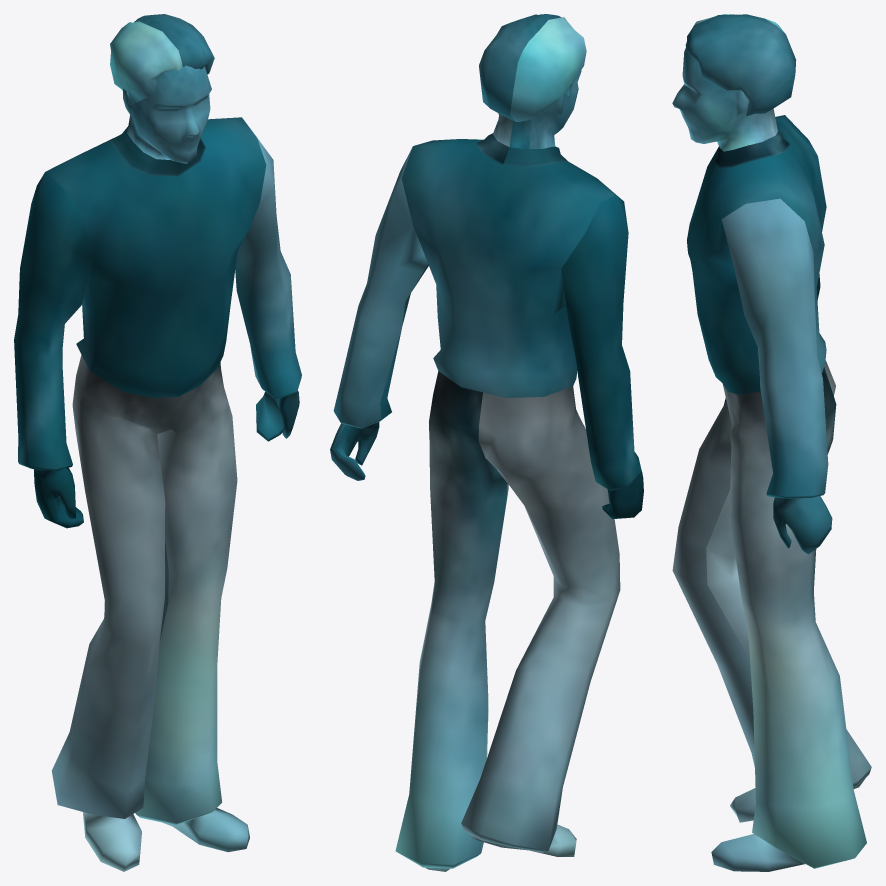
Rendered from simpleMan08.obj.
3 views of the same model, side by side, from view 1: azimuth 30°, elevation 25°; view 2: azimuth 150°, elevation 25°; view 3: azimuth 270°, elevation 25° (orthographic). The views are drawn at different scales.
Visible parts, largest first — view 1: uomo; view 2: uomo; view 3: uomo.
Part boxes in pixels (<box>): uomo: <box>14,14,301,871</box>; uomo: <box>330,14,643,871</box>; uomo: <box>672,14,871,871</box>.
Bounding box in the file's own units: 1.78 × 4.97 × 1.1.
